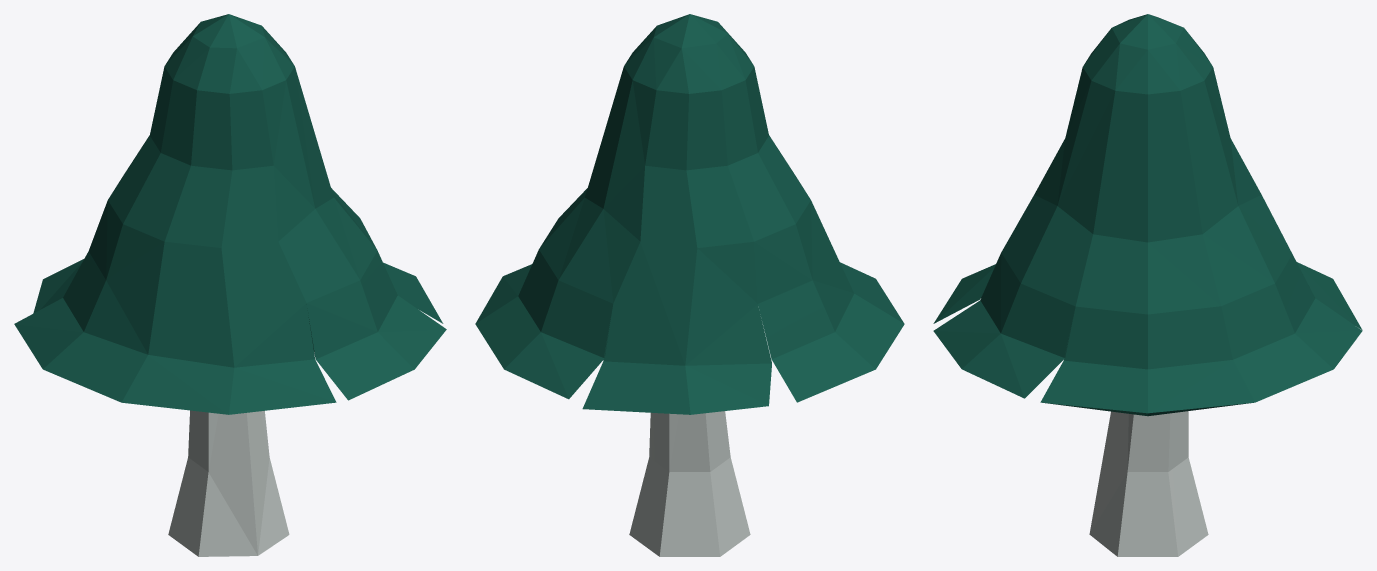
Rendered from mushroom2.fbx.
3 views of the same model, side by side, from view 1: azimuth 30°, elevation 25°; view 2: azimuth 150°, elevation 25°; view 3: azimuth 270°, elevation 25° (orthographic).
Parts seen in each view (by area): view 1: Mushroom_01; view 2: Mushroom_01; view 3: Mushroom_01.
Part boxes in pixels (x1=…): Mushroom_01: x1=14, y1=14, x2=446, y2=556; Mushroom_01: x1=475, y1=14, x2=904, y2=556; Mushroom_01: x1=933, y1=14, x2=1362, y2=556.
Bounding box in the file's own units: 151 × 202 × 151.
